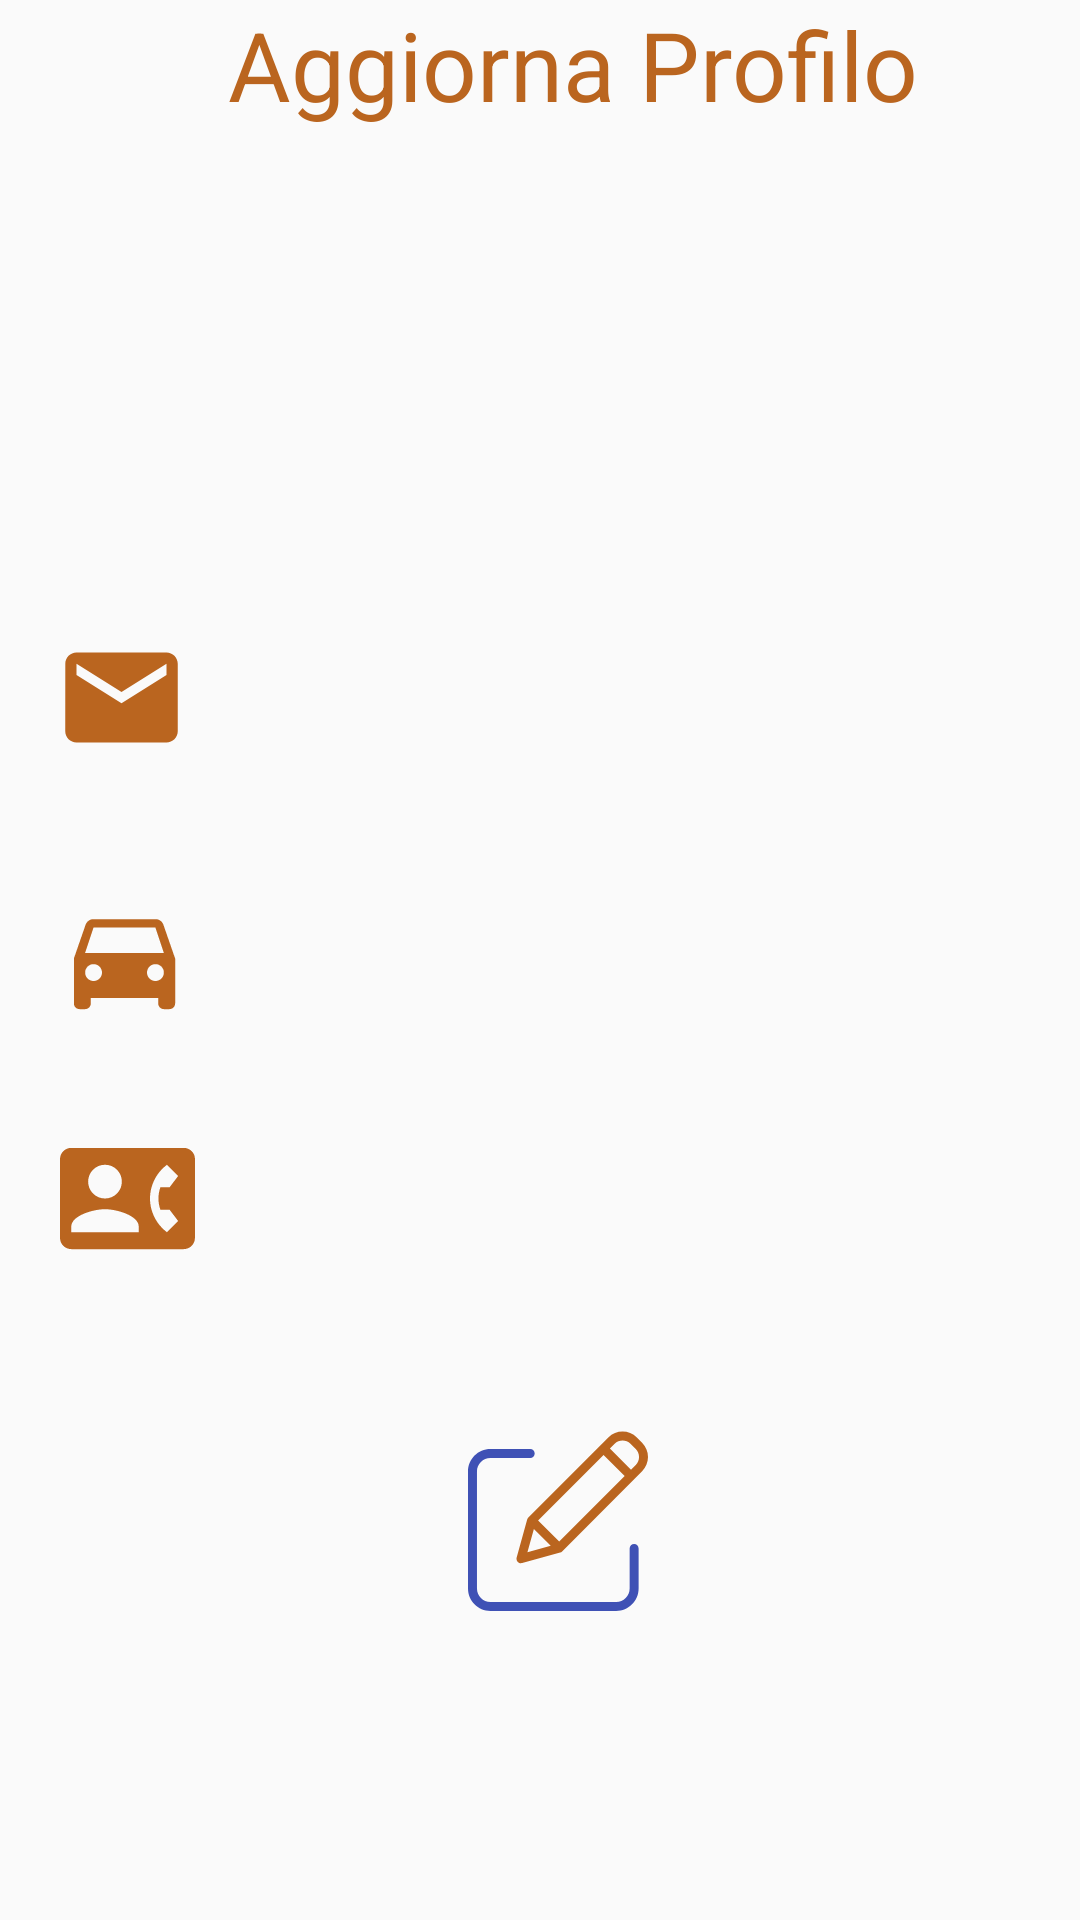

Point at icon controls on the screen. Image size 1080px×1920px, points as point (x, y).
car: point (125, 964)
email: point (121, 697)
telephone: point (127, 1199)
